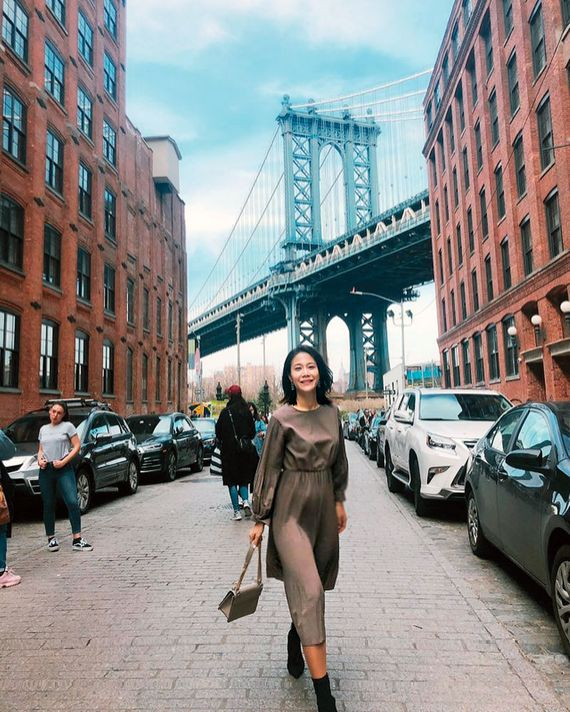car: (450, 388, 570, 637), (376, 386, 521, 513), (5, 403, 148, 496), (123, 410, 207, 486)
person: (221, 342, 383, 710), (29, 401, 110, 559), (204, 384, 276, 523)
